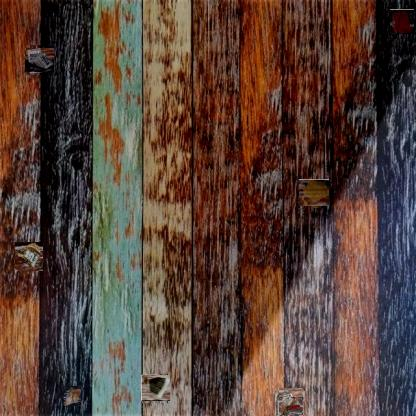dirty: (14, 242, 44, 271), (276, 389, 305, 416), (26, 47, 53, 74), (142, 375, 169, 402), (63, 386, 82, 405)
liquid: (300, 179, 329, 207), (390, 10, 415, 34)
